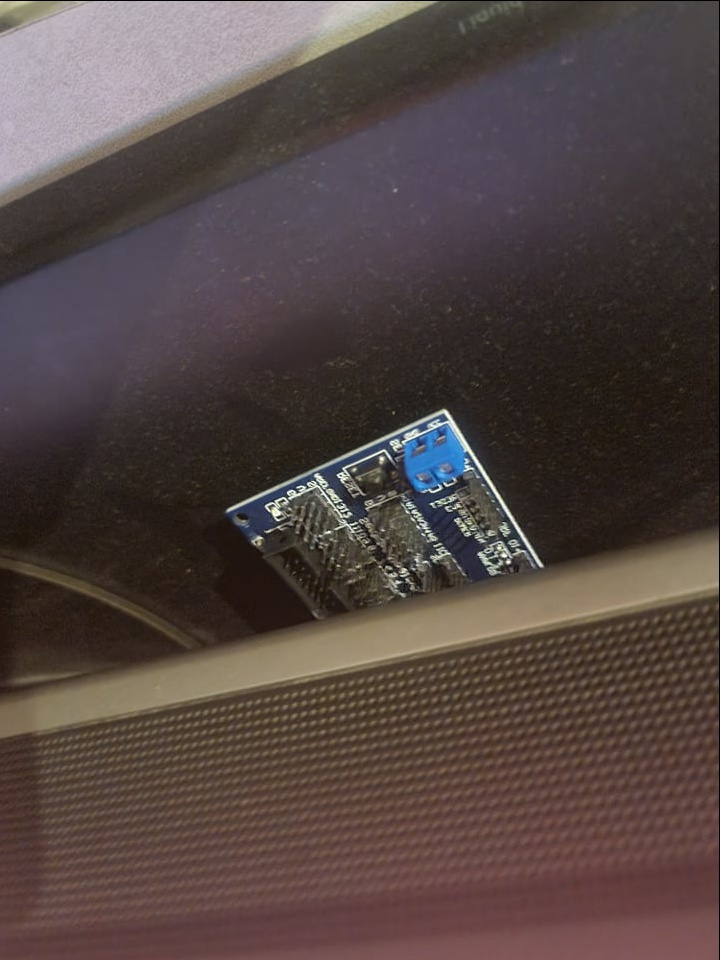5V EXPANSION: (228, 407, 549, 640)
